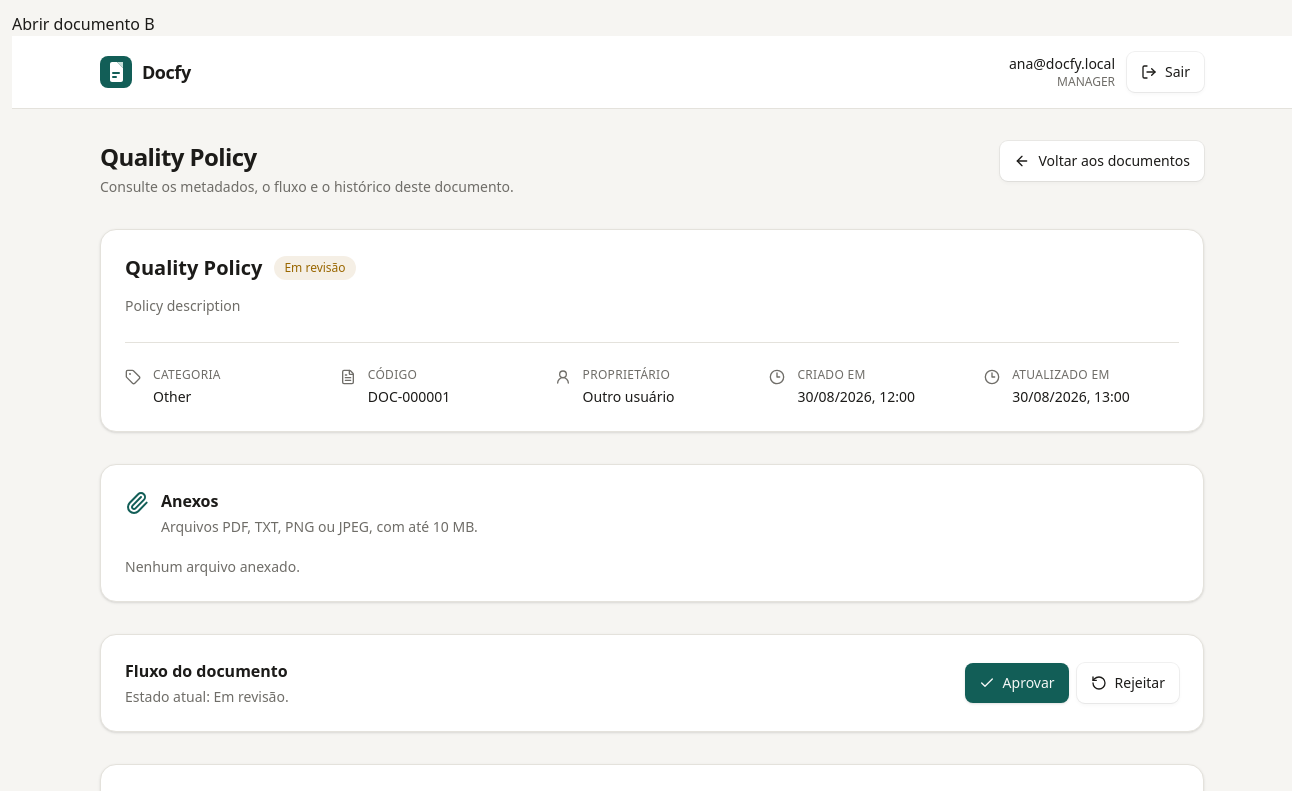
Test case: DocumentDetailPage workflow › approve updates the document status and shows success
Click the button "Aprovar" at point(1017, 683), box [965,663,1069,703]
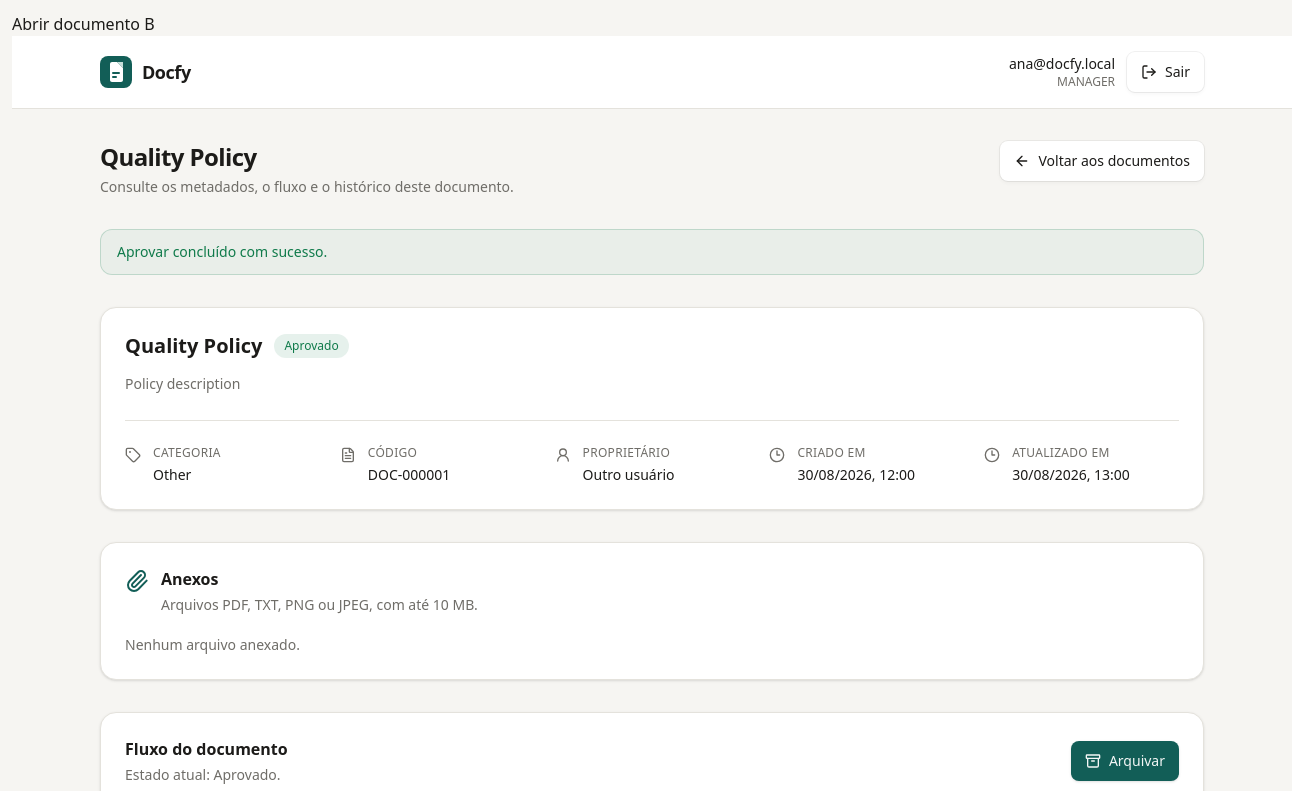
Expected: the text "Estado atual: Aprovado." is shown, [125,765,288,785]
